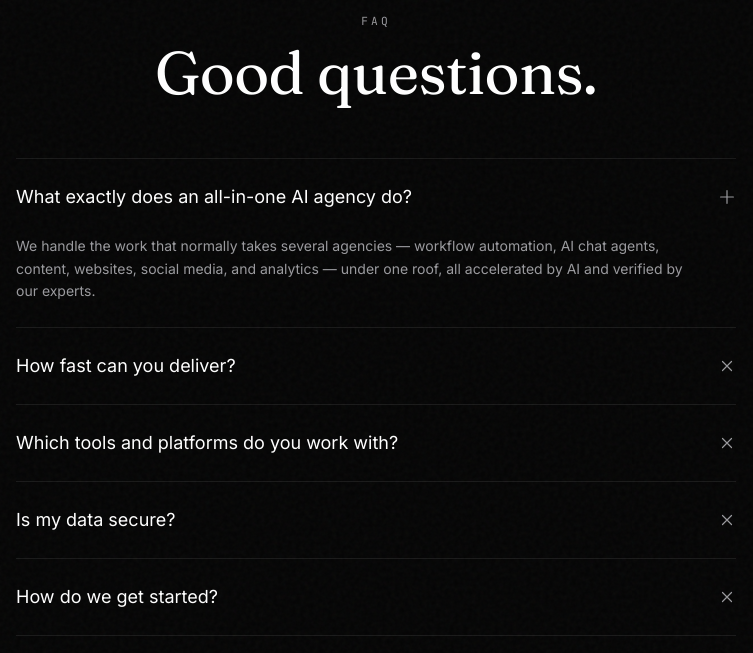
Test: faq accordion › toggles aria-expanded when a question is clicked
Step 1. Click the button "How fast can you deliver?" → (126, 366), box [16,328,736,404]
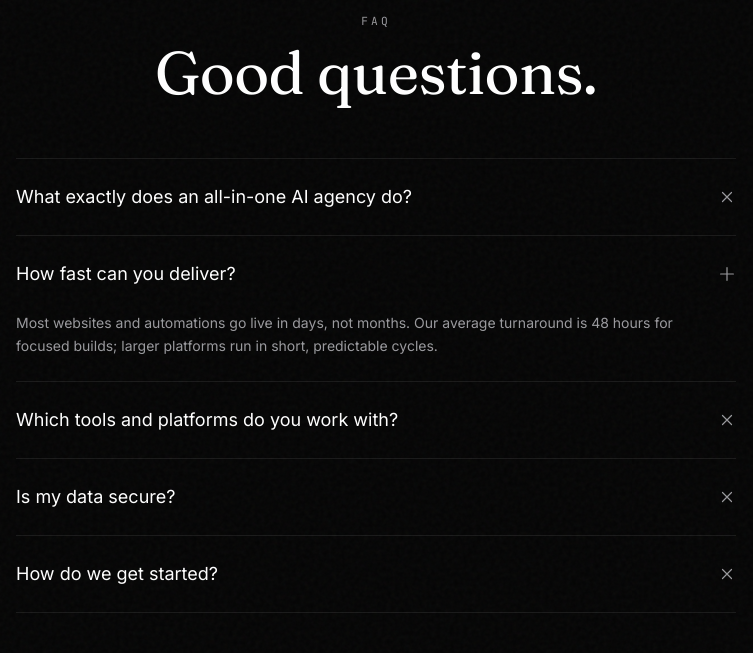
Expected: the button "How fast can you deliver?" is expanded, [16,236,736,312]
